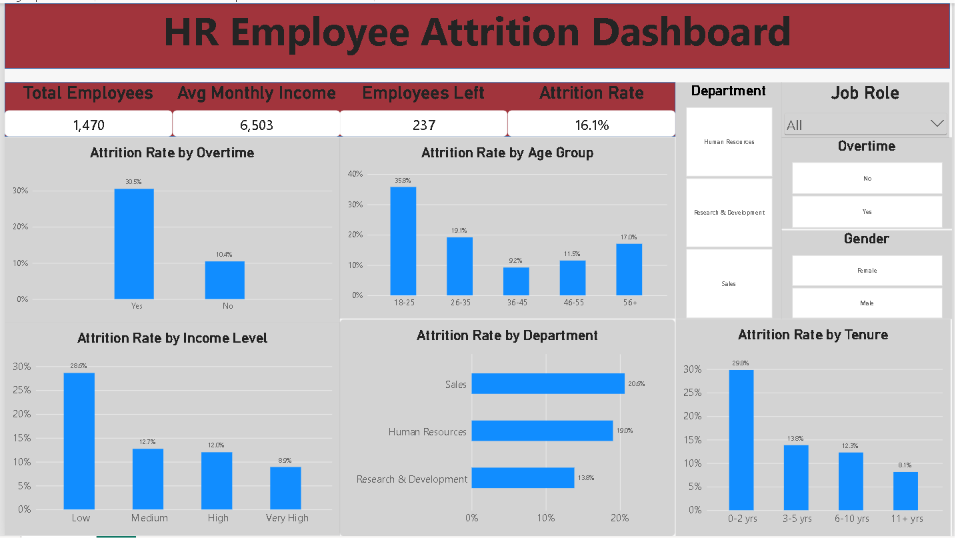

The page's visual inventory and layout, read from the dashboard file:
{"tool":"powerbi","page":{"name":"Page 1","canvas":[1920,1080],"ordinal":0},"visuals":[{"type":"shape","box":[0,160,1360,110],"z":500},{"type":"cardVisual","title":"Total Employees","fields":{"Data":["public hr_employees.Total Employees Display"]},"box":[0,160,340,110],"z":1000},{"type":"cardVisual","title":"Employees Left","fields":{"Data":["public hr_employees.Employees Left"]},"box":[680,160,340,110],"z":2000},{"type":"cardVisual","title":"Attrition Rate","fields":{"Data":["public hr_employees.Attrition Rate"]},"box":[1020,160,340,110],"z":3000},{"type":"cardVisual","title":"Avg Monthly Income ","fields":{"Data":["public hr_employees.Avg Monthly Income Display"]},"box":[340,160,340,110],"z":4000},{"type":"clusteredBarChart","title":"Attrition Rate by Department","fields":{"Category":["public hr_employees.department"],"Y":["public hr_employees.Attrition Rate"]},"box":[680,640,680,440],"z":5000},{"type":"clusteredColumnChart","title":"Attrition Rate by Overtime","fields":{"Category":["public hr_employees.overtime"],"Y":["public hr_employees.Attrition Rate"]},"box":[0,272.5,680,375],"z":6000},{"type":"clusteredColumnChart","title":"Attrition Rate by Age Group","fields":{"Category":["public hr_employees.agegroup"],"Y":["public hr_employees.Attrition Rate"]},"box":[680,272.5,680,367.5],"z":7000},{"type":"clusteredColumnChart","title":"Attrition Rate by Income Level","fields":{"Category":["public hr_employees.incomelevel"],"Y":["public hr_employees.Attrition Rate"]},"box":[0,647.5,680,432.5],"z":8000},{"type":"clusteredColumnChart","title":"Attrition Rate by Tenure","fields":{"Category":["public hr_employees.tenureband"],"Y":["public hr_employees.Attrition Rate"]},"box":[1360,640,557.5,440],"z":9000},{"type":"slicer","title":"Department","fields":{"Values":["public hr_employees.department"]},"box":[1360,160,215,480],"z":10000},{"type":"slicer","title":"Gender","fields":{"Values":["public hr_employees.gender"]},"box":[1575,460,345,180],"z":11000},{"type":"slicer","title":"Job Role","fields":{"Values":["public hr_employees.jobrole"]},"box":[1575,160,340,112.5],"z":12000},{"type":"slicer","title":"Overtime","fields":{"Values":["public hr_employees.overtime"]},"box":[1575,272.5,345,185],"z":13000},{"type":"shape","box":[0,0,1916.3,132.4],"z":14000},{"type":"textbox","box":[0,0,1916,132],"z":15000}]}

Visuals, with their boxes in screenshot pixels (x1, y1, x2, y2), scaled from the page's 1920x1080 canvas onto the 955x538 screenshot:
shape: [left=0, top=80, right=676, bottom=134]
"Total Employees" cardVisual: [left=0, top=80, right=169, bottom=134]
"Employees Left" cardVisual: [left=338, top=80, right=507, bottom=134]
"Attrition Rate" cardVisual: [left=507, top=80, right=676, bottom=134]
"Avg Monthly Income " cardVisual: [left=169, top=80, right=338, bottom=134]
"Attrition Rate by Department" clusteredBarChart: [left=338, top=319, right=676, bottom=537]
"Attrition Rate by Overtime" clusteredColumnChart: [left=0, top=136, right=338, bottom=323]
"Attrition Rate by Age Group" clusteredColumnChart: [left=338, top=136, right=676, bottom=319]
"Attrition Rate by Income Level" clusteredColumnChart: [left=0, top=323, right=338, bottom=537]
"Attrition Rate by Tenure" clusteredColumnChart: [left=676, top=319, right=954, bottom=537]
"Department" slicer: [left=676, top=80, right=783, bottom=319]
"Gender" slicer: [left=783, top=229, right=954, bottom=319]
"Job Role" slicer: [left=783, top=80, right=953, bottom=136]
"Overtime" slicer: [left=783, top=136, right=954, bottom=228]
shape: [left=0, top=0, right=953, bottom=66]
textbox: [left=0, top=0, right=953, bottom=66]
